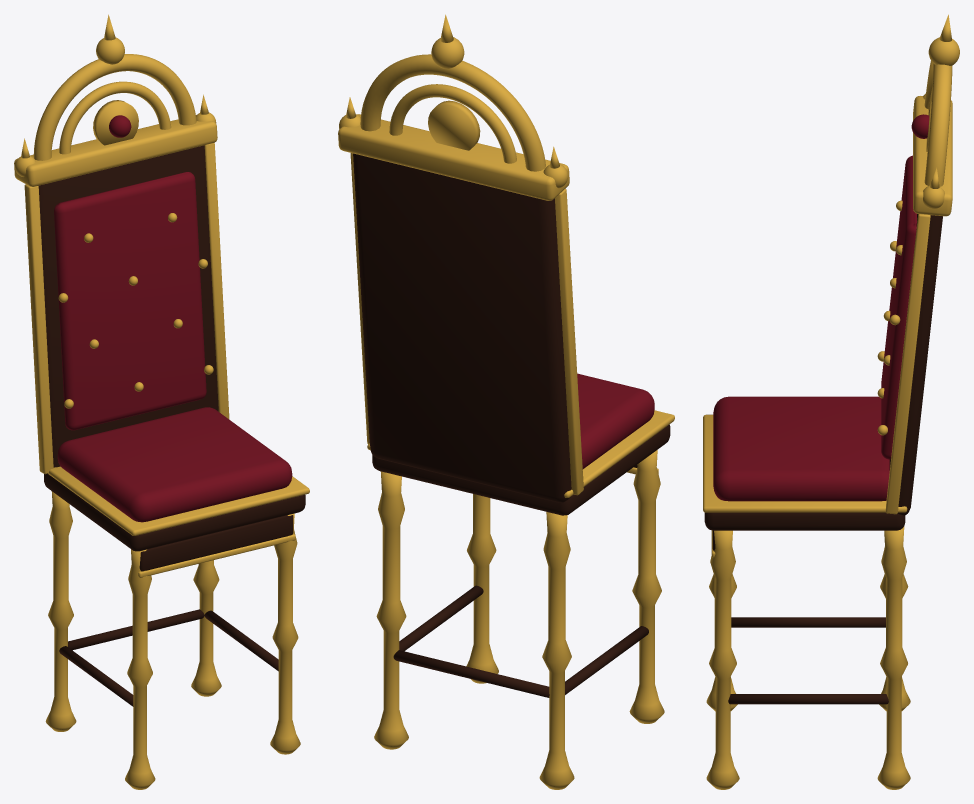
The model's file is royal_chair.glb.
3 renders of one model, left to right at view 1: azimuth 30°, elevation 25°; view 2: azimuth 150°, elevation 25°; view 3: azimuth 270°, elevation 25°, orthographic. The views are drawn at different scales.
Visible parts, largest first — view 1: BackPanel, SeatPad, BackFrame, TopRail, SeatFrame, SideTrim-1, CrestOuter, Leg2, Leg0, Leg1, SeatPiping, FrontApron (+9 smaller); view 2: BackFrame, TopRail, Leg3, Leg2, Leg0, CrestOuter, SeatPad, SeatFrame, SideTrim-1, Leg1, CrestInner, CrestMedallion (+6 smaller); view 3: SeatPad, Leg1, Leg3, BackPanel, SideTrim1, BackFrame, SeatFrame, SeatPiping, CrestOuter, TopRail, SideStretcher0.52, SideStretcher-0.52 (+3 smaller).
Part boxes in pixels (left/top/right/bottom): BackPanel: left=54, top=172, right=206, bottom=430; SeatPad: left=57, top=407, right=292, bottom=522; BackFrame: left=38, top=145, right=218, bottom=467; TopRail: left=14, top=115, right=217, bottom=186; SeatFrame: left=44, top=473, right=305, bottom=551; SideTrim-1: left=24, top=184, right=53, bottom=474; CrestOuter: left=33, top=54, right=196, bottom=160; Leg2: left=45, top=491, right=76, bottom=731; Leg0: left=125, top=549, right=155, bottom=789; Leg1: left=270, top=513, right=300, bottom=754; SeatPiping: left=48, top=466, right=309, bottom=535; FrontApron: left=139, top=515, right=293, bottom=571; BackFrame: left=353, top=153, right=571, bottom=502; TopRail: left=338, top=114, right=569, bottom=200; Leg3: left=374, top=471, right=408, bottom=749; Leg2: left=539, top=512, right=574, bottom=789; Leg0: left=629, top=450, right=664, bottom=723; CrestOuter: left=360, top=54, right=545, bottom=171; SeatPad: left=577, top=373, right=654, bottom=469; SeatFrame: left=372, top=424, right=670, bottom=515; SideTrim-1: left=555, top=189, right=583, bottom=495; Leg1: left=466, top=494, right=498, bottom=683; CrestInner: left=389, top=84, right=516, bottom=163; CrestMedallion: left=428, top=100, right=480, bottom=150; SeatPad: left=713, top=396, right=889, bottom=501; Leg1: left=706, top=530, right=739, bottom=789; Leg3: left=877, top=526, right=910, bottom=789; BackPanel: left=881, top=155, right=916, bottom=459; SideTrim1: left=885, top=214, right=930, bottom=514; BackFrame: left=889, top=214, right=942, bottom=515; SeatFrame: left=704, top=512, right=905, bottom=530; SeatPiping: left=703, top=414, right=907, bottom=512; CrestOuter: left=924, top=61, right=952, bottom=186; TopRail: left=913, top=96, right=952, bottom=216; SideStretcher0.52: left=728, top=694, right=888, bottom=704; SideStretcher-0.52: left=731, top=617, right=885, bottom=627.
Size of the model in its own units: 1.42 by 4.64 by 1.47.
